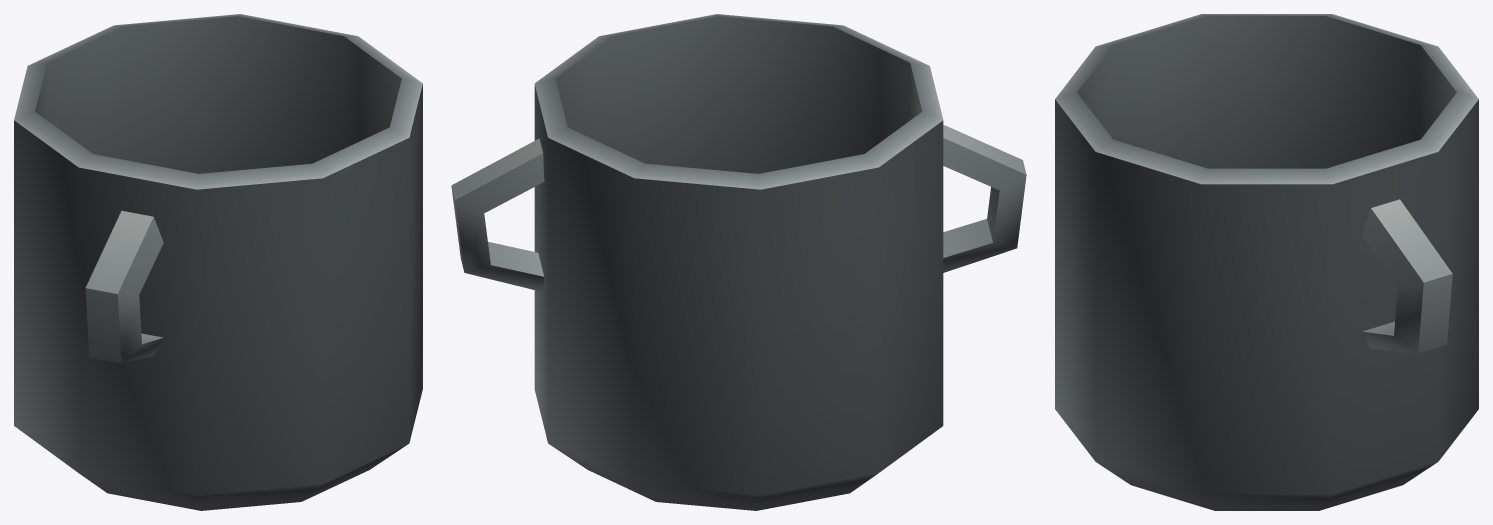
The model's file is Pot_1C.fbx.
The picture shows the model from 3 angles, left to right: view 1: azimuth 30°, elevation 25°; view 2: azimuth 150°, elevation 25°; view 3: azimuth 270°, elevation 25°; orthographic projection.
Visible parts, largest first — view 1: Pot_1C; view 2: Pot_1C; view 3: Pot_1C.
Part boxes in pixels (bbox=[...]): Pot_1C: bbox=[14, 14, 422, 510]; Pot_1C: bbox=[451, 14, 1026, 510]; Pot_1C: bbox=[1055, 14, 1478, 510].
Size of the model in its own units: 35.77 by 28.12 by 30.78.
